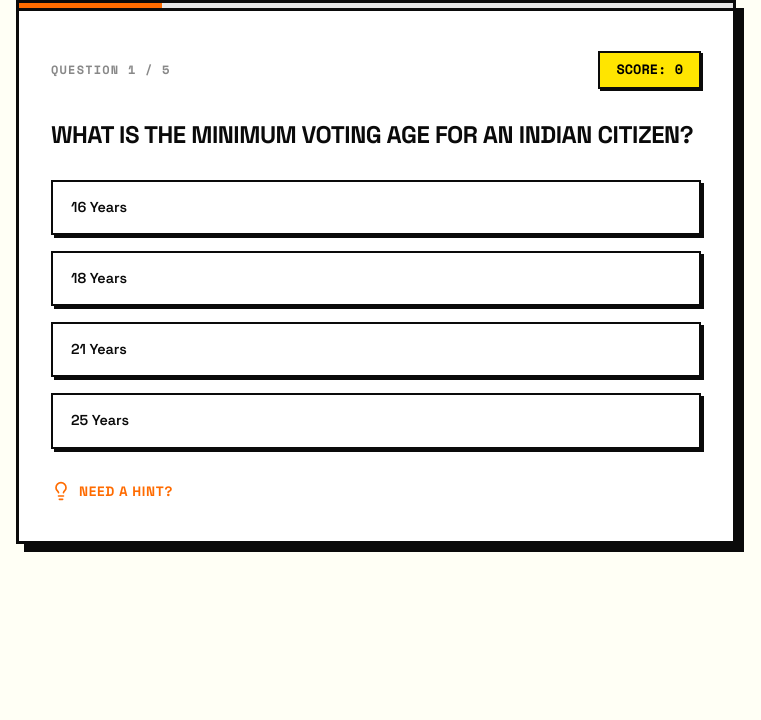
Quiz Component — Interaction & State › shows WRONG ANSWER feedback when the wrong answer is chosen
The width and height of the screenshot is (761, 720).
Click the button "16 Years": {"x": 99, "y": 207} [51,180,701,235]
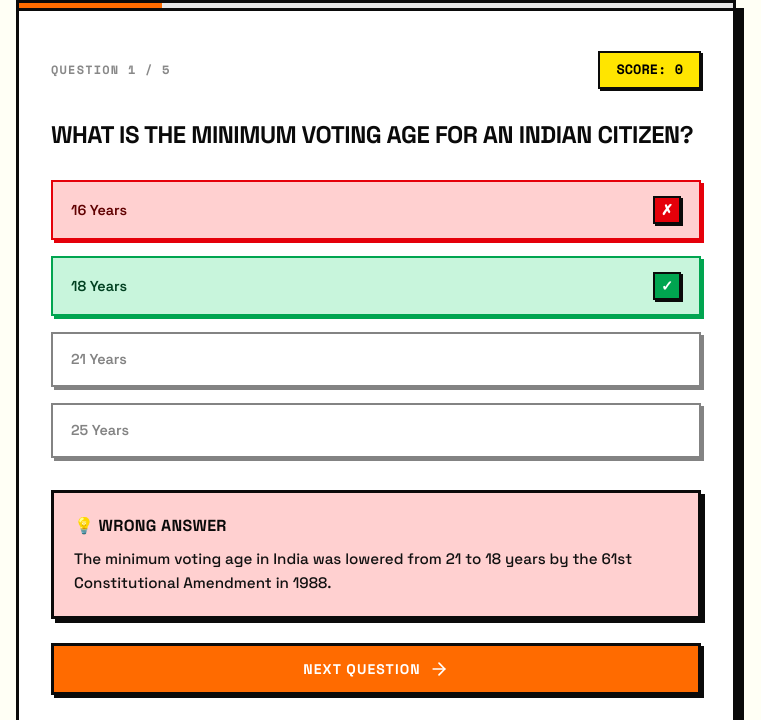
Expected: the text "💡 WRONG ANSWER" is shown, [74,515,227,536]
